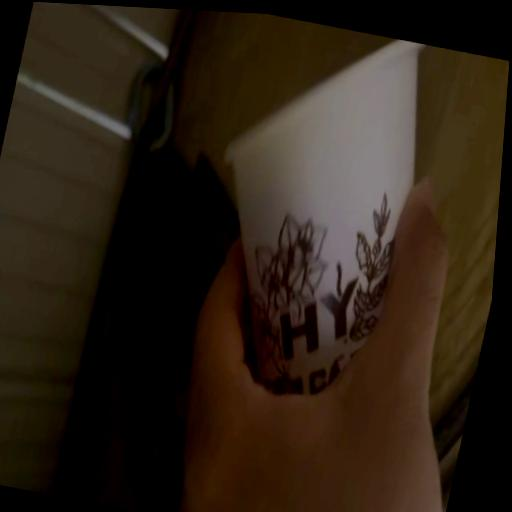Ly_giay: (227, 38, 423, 394)
